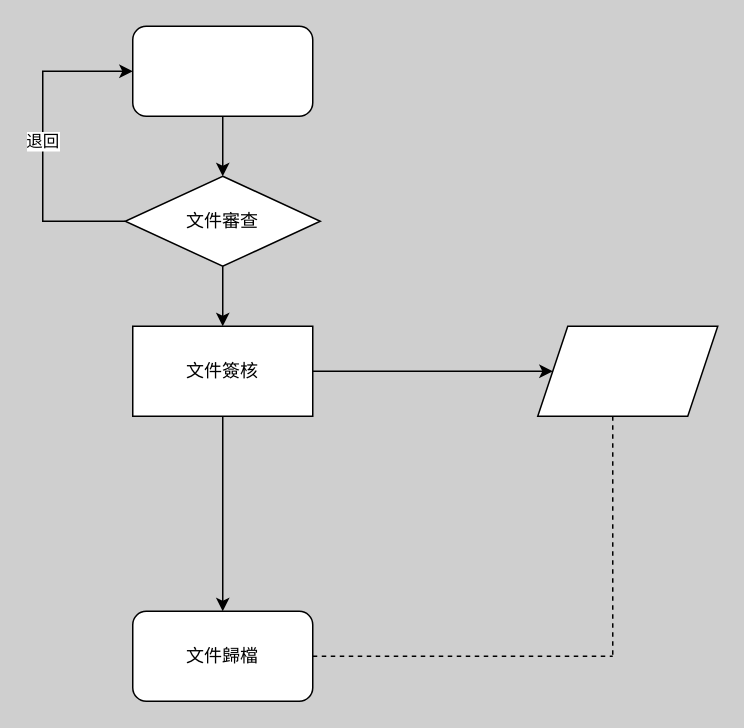
Some shapes in this 744 by 728 pixel diagram are drawn without their labels. Here are the shapes that lost their labels. From the top down, the box of each, then its label:
(131, 25, 313, 116): 文件製作
(536, 325, 718, 416): 外部系統
